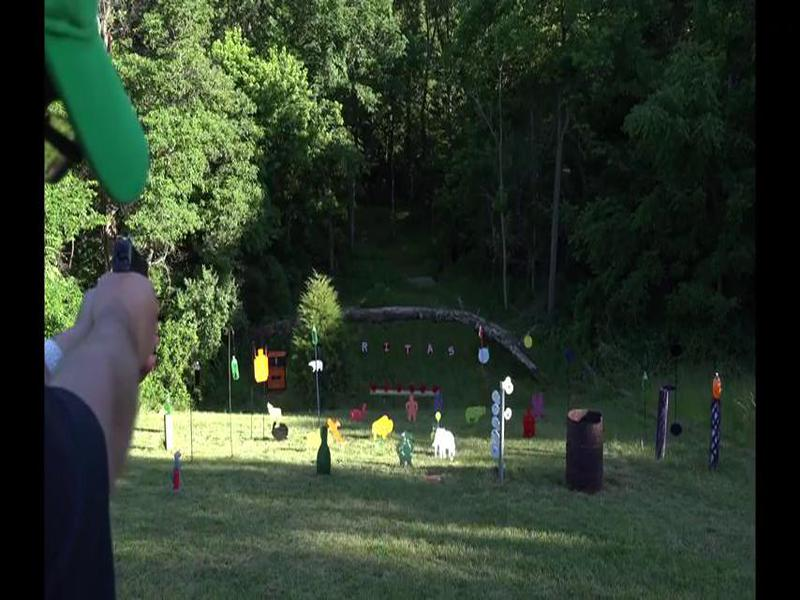Pistola: (102, 226, 177, 298)
